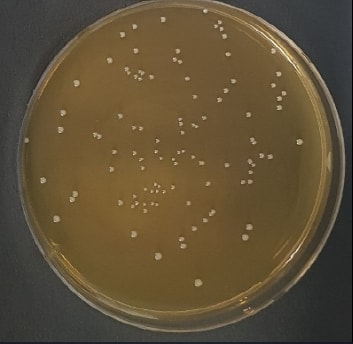colony: (158, 13, 169, 26), (71, 78, 82, 88), (294, 136, 304, 147), (200, 6, 210, 16), (131, 46, 141, 56), (51, 214, 61, 224), (58, 107, 67, 118), (130, 22, 139, 32), (268, 45, 277, 55), (105, 54, 114, 64), (214, 95, 224, 104), (70, 189, 80, 198), (115, 198, 125, 207), (193, 278, 202, 288), (55, 125, 64, 134), (256, 150, 265, 159), (67, 195, 76, 204), (244, 223, 253, 232), (244, 109, 252, 119), (154, 251, 162, 261), (118, 30, 126, 39), (173, 47, 182, 55), (170, 55, 178, 64), (183, 74, 192, 82), (229, 77, 238, 85), (269, 81, 278, 89), (137, 124, 145, 133), (247, 135, 256, 143), (266, 151, 274, 160), (197, 158, 205, 167), (224, 50, 232, 58), (176, 58, 184, 66), (123, 65, 131, 73), (222, 87, 230, 95), (116, 111, 124, 119), (23, 136, 31, 144), (200, 114, 208, 122), (223, 161, 231, 169), (107, 166, 115, 174), (130, 230, 138, 238), (241, 233, 249, 241), (276, 103, 283, 112), (38, 176, 47, 183), (168, 182, 175, 191), (218, 24, 225, 32), (221, 33, 228, 41), (131, 73, 139, 80), (138, 68, 145, 76), (280, 89, 287, 97), (275, 95, 283, 102), (91, 130, 98, 138), (96, 133, 103, 141), (193, 123, 201, 130), (251, 139, 258, 147), (175, 148, 182, 156), (239, 178, 246, 186), (204, 180, 212, 187), (184, 200, 192, 207), (190, 225, 198, 232), (176, 235, 184, 242), (216, 18, 223, 25), (212, 23, 219, 30), (148, 73, 155, 80), (275, 70, 282, 77), (191, 93, 198, 100), (246, 157, 253, 164), (154, 137, 161, 144), (110, 148, 117, 155), (152, 148, 159, 155), (137, 156, 144, 163), (207, 211, 214, 218), (130, 193, 137, 200), (136, 76, 144, 82), (131, 148, 137, 156), (152, 180, 158, 188), (126, 70, 133, 76), (130, 123, 136, 130), (176, 116, 183, 122), (190, 121, 196, 128), (179, 129, 185, 136), (158, 155, 164, 162), (246, 178, 253, 184), (210, 208, 216, 215), (141, 186, 148, 192), (201, 217, 207, 224), (179, 243, 186, 249), (138, 165, 146, 170), (251, 162, 257, 168), (170, 156, 176, 162), (133, 200, 139, 206), (142, 208, 148, 214), (177, 121, 184, 126), (246, 169, 253, 174), (141, 201, 146, 208), (180, 148, 185, 154), (190, 154, 195, 160), (156, 183, 161, 189), (162, 188, 167, 194), (154, 188, 160, 193), (149, 188, 154, 194), (129, 203, 134, 209), (149, 201, 155, 206), (153, 202, 159, 207)
petri: (15, 1, 346, 333)
